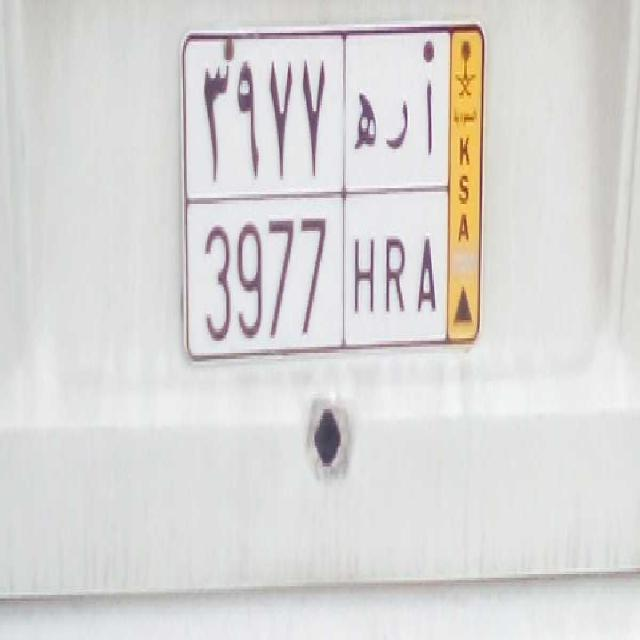license_plate: (183, 194, 451, 352)
